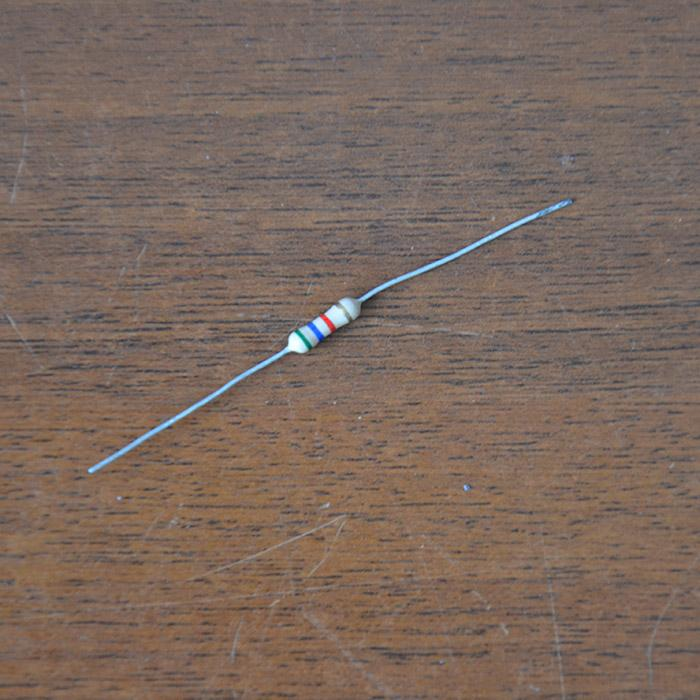resistor: (289, 296, 363, 353)
